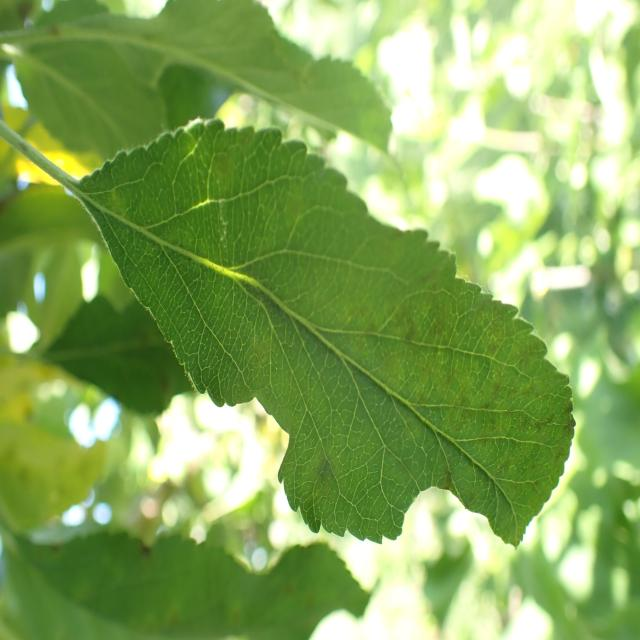scab: (84, 127, 564, 505)
